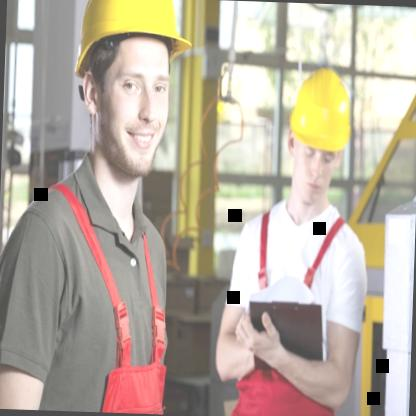helmet: (66, 0, 206, 176), (280, 50, 360, 214)
